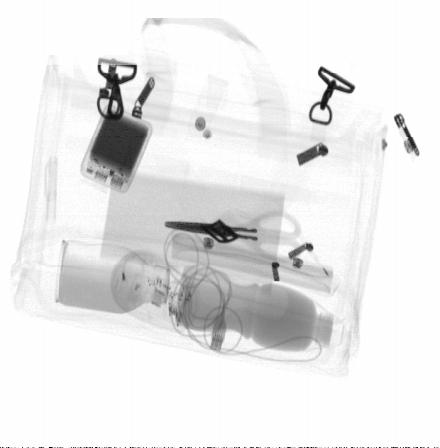Powerbank: (81, 103, 153, 194)
Scissors: (164, 208, 303, 266)
